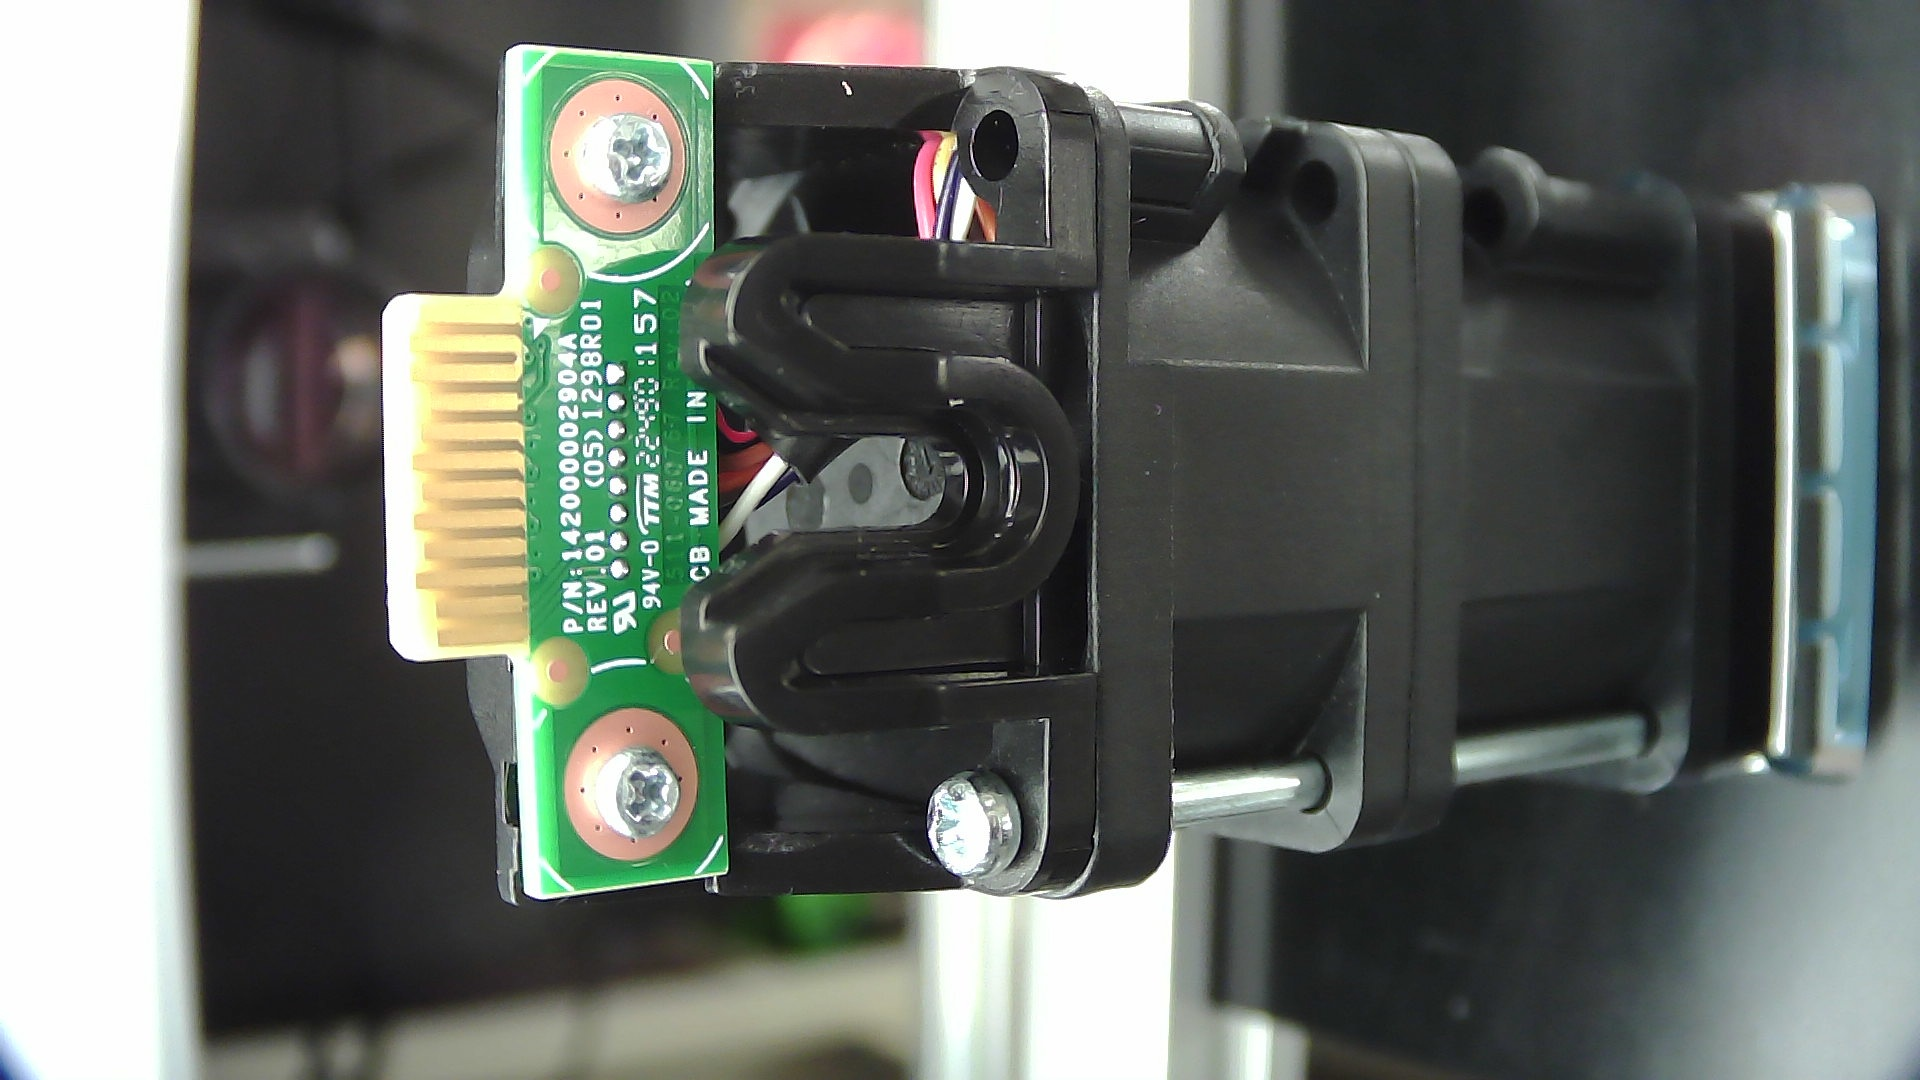3_0: (345, 16, 1903, 923)
